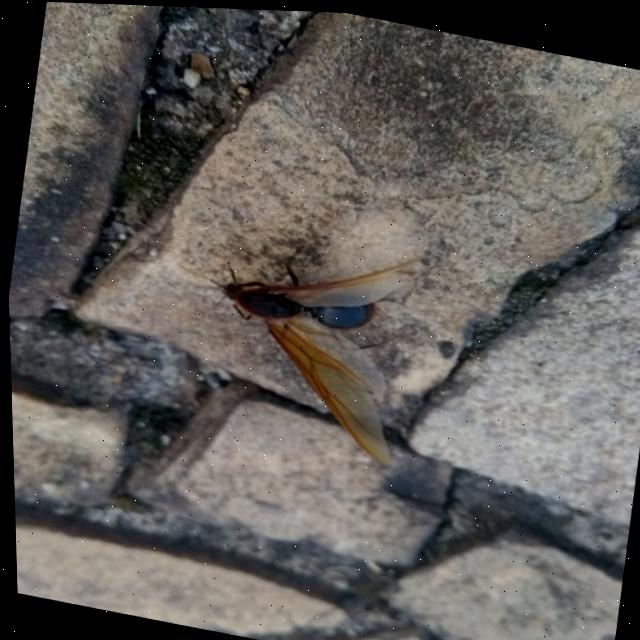Alive-Male-Alate: (149, 212, 431, 466)
